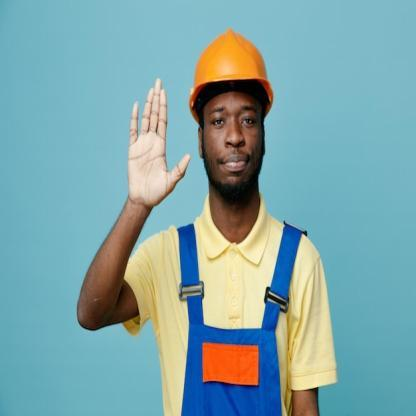stop: (122, 76, 190, 214)
